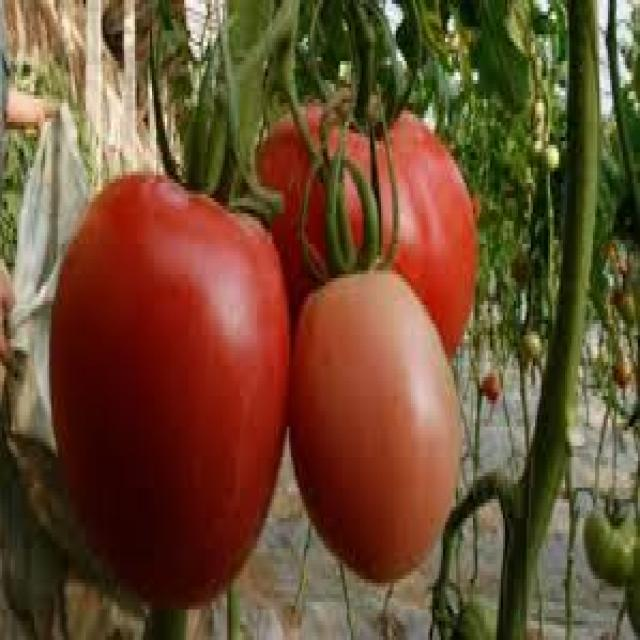food_waste: (51, 0, 638, 636), (584, 510, 638, 632)
